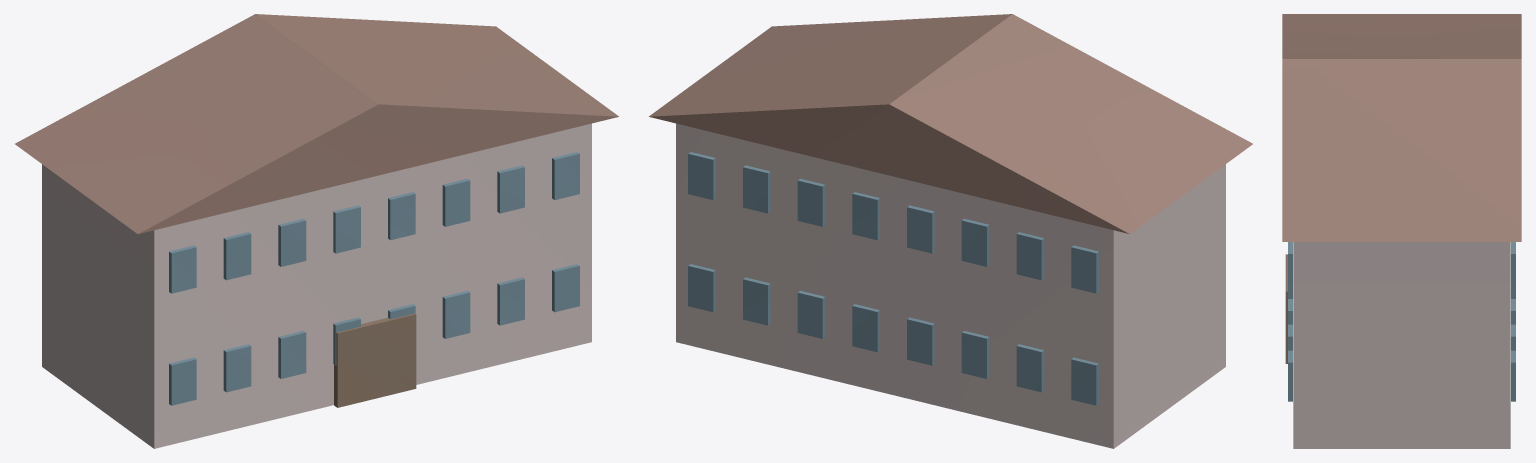
File: station-01.glb
3 views of the same model, side by side, from view 1: azimuth 30°, elevation 25°; view 2: azimuth 150°, elevation 25°; view 3: azimuth 270°, elevation 25° (orthographic). The views are drawn at different scales.
Visible parts, largest first — view 1: world; view 2: world; view 3: world.
Part boxes in pixels (x1,y1,x2,y2): world: (15,14,618,448); world: (649,14,1252,448); world: (1282,14,1521,448).
Size of the model in its own units: 2.7 by 1.58 by 1.2.
